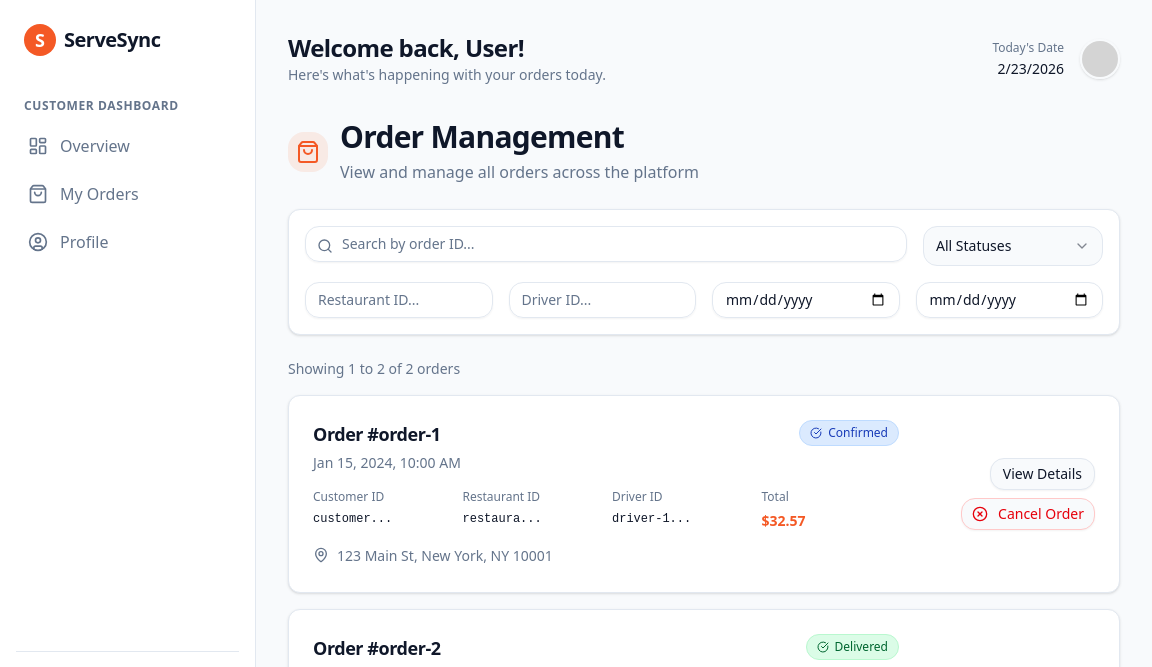
Scenario: OrdersManagementPage › opens cancel order dialog
Click the button "Cancel Order" at (1028, 514), box [961,498,1095,530]
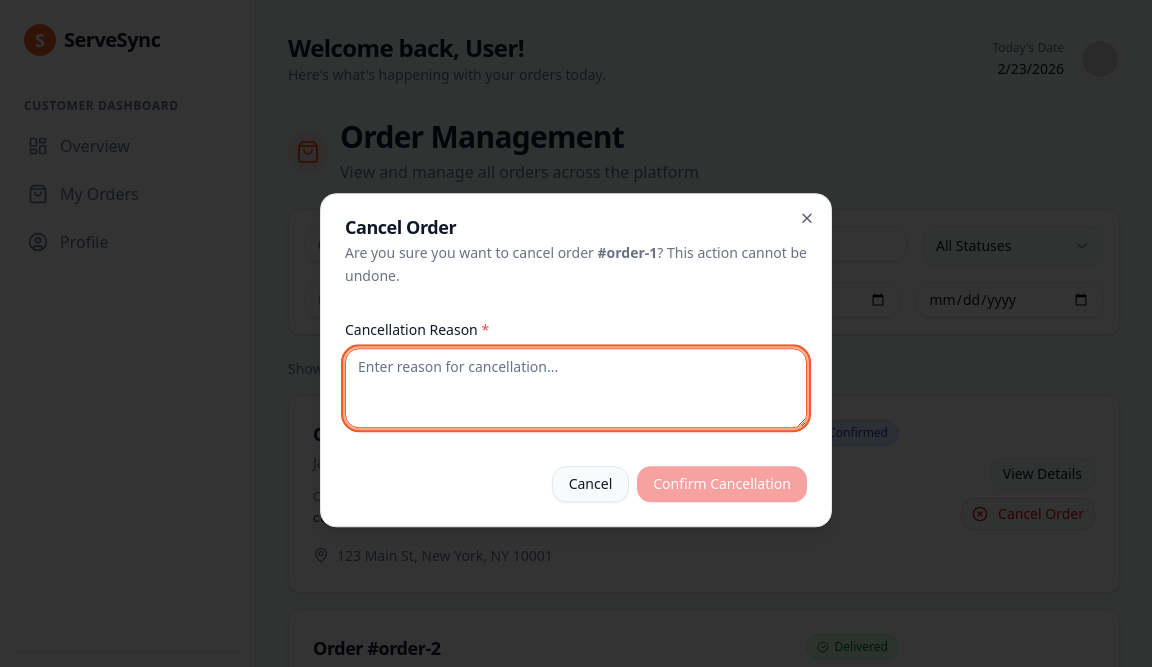
Expected: the dialog is shown, [320,193,832,527]
Expected: the text "Are you sure you want to cancel order" is shown, [345,243,594,262]
